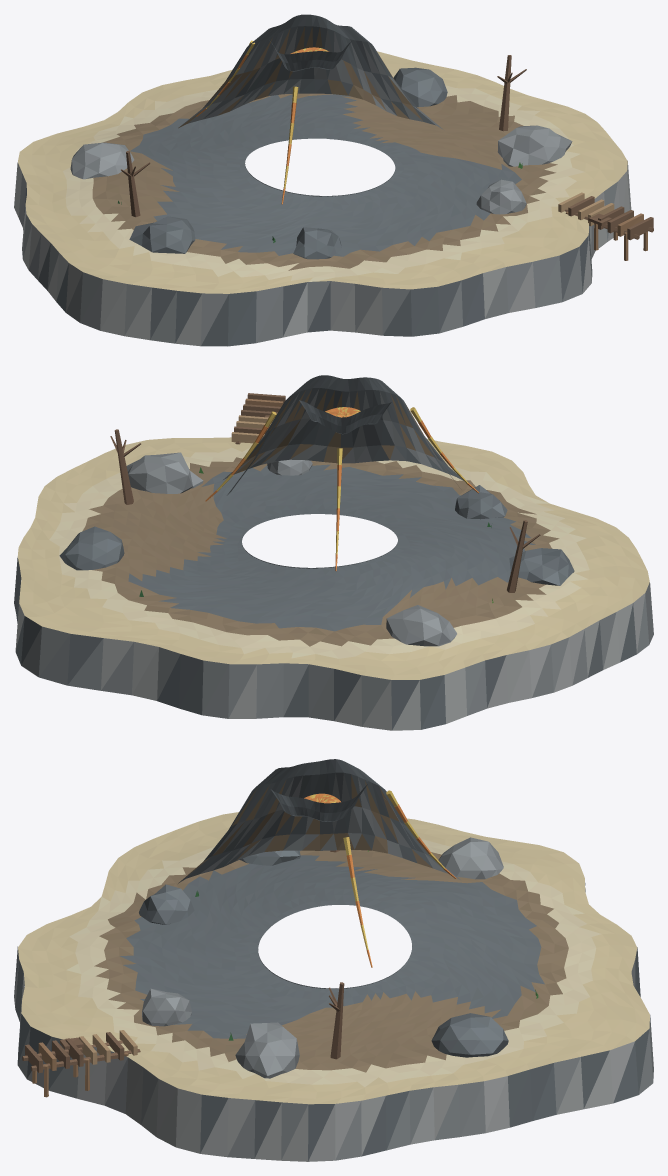
The model's file is island_volcanic.glb.
3 views of the same model, one above another, from view 1: azimuth 30°, elevation 25°; view 2: azimuth 150°, elevation 25°; view 3: azimuth 270°, elevation 25° (orthographic). The views are drawn at different scales.
Parts seen in each view (by area): view 1: Volcanic_outer_black_sand, Volcanic_basalt_shore, Volcanic_crater_cone, Volcanic_basalt_boulder_2, Volcanic_basalt_boulder_3, Volcanic_basalt_boulder_0, Volcanic_basalt_boulder_1, Volcanic_basalt_boulder_4, Volcanic_basalt_boulder_5, Volcanic_dead_tree_trunk_1; view 2: Volcanic_outer_black_sand, Volcanic_basalt_shore, Volcanic_crater_cone, Volcanic_basalt_boulder_2, Volcanic_basalt_boulder_0, Volcanic_basalt_boulder_1, Volcanic_basalt_boulder_3, Volcanic_basalt_boulder_5, Volcanic_basalt_boulder_4, Volcanic_dead_tree_trunk_1, Volcanic_dead_tree_trunk_0; view 3: Volcanic_outer_black_sand, Volcanic_basalt_shore, Volcanic_crater_cone, Volcanic_basalt_boulder_2, Volcanic_basalt_boulder_1, Volcanic_basalt_boulder_0, Volcanic_basalt_boulder_5, Volcanic_basalt_boulder_4, Volcanic_basalt_boulder_3, Volcanic_dead_tree_trunk_1.
Part boxes in pixels (x1,y1,x2,y2): Volcanic_outer_black_sand: [18, 51, 627, 293]; Volcanic_basalt_shore: [14, 160, 631, 346]; Volcanic_crater_cone: [178, 14, 443, 129]; Volcanic_basalt_boulder_2: [497, 125, 572, 166]; Volcanic_basalt_boulder_3: [129, 216, 195, 253]; Volcanic_basalt_boulder_0: [70, 142, 134, 179]; Volcanic_basalt_boulder_1: [393, 67, 447, 107]; Volcanic_basalt_boulder_4: [476, 179, 526, 214]; Volcanic_basalt_boulder_5: [293, 227, 341, 259]; Volcanic_dead_tree_trunk_1: [499, 55, 511, 131]; Volcanic_outer_black_sand: [17, 437, 649, 679]; Volcanic_basalt_shore: [14, 557, 653, 730]; Volcanic_crater_cone: [223, 375, 463, 495]; Volcanic_basalt_boulder_2: [126, 452, 203, 493]; Volcanic_basalt_boulder_0: [386, 605, 456, 646]; Volcanic_basalt_boulder_1: [59, 526, 124, 570]; Volcanic_basalt_boulder_3: [509, 548, 574, 585]; Volcanic_basalt_boulder_5: [455, 485, 507, 519]; Volcanic_basalt_boulder_4: [267, 459, 312, 475]; Volcanic_dead_tree_trunk_1: [114, 429, 133, 504]; Volcanic_dead_tree_trunk_0: [507, 520, 527, 592]; Volcanic_outer_black_sand: [18, 812, 649, 1104]; Volcanic_basalt_shore: [14, 883, 653, 1161]; Volcanic_crater_cone: [178, 759, 460, 883]; Volcanic_basalt_boulder_2: [235, 1022, 299, 1078]; Volcanic_basalt_boulder_1: [431, 1013, 508, 1057]; Volcanic_basalt_boulder_0: [438, 837, 503, 879]; Volcanic_basalt_boulder_5: [139, 884, 194, 924]; Volcanic_basalt_boulder_4: [142, 988, 191, 1026]; Volcanic_basalt_boulder_3: [240, 850, 300, 865]; Volcanic_dead_tree_trunk_1: [330, 982, 344, 1059].
Bounding box in the file's own units: 20.93 × 7.47 × 18.91.
